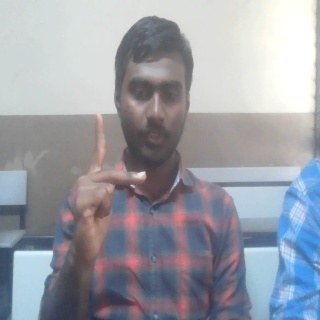Okay: (71, 110, 150, 264)
